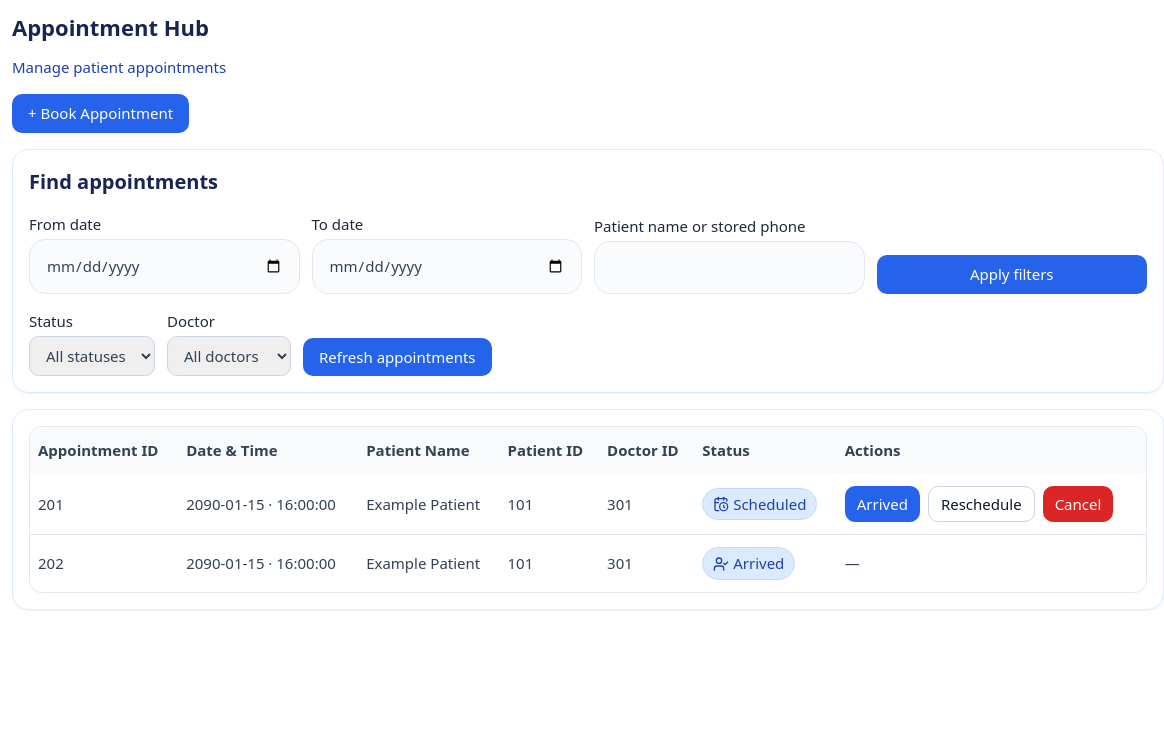
Test: ADM-05 appointment hub › filters locally by status/doctor and validates server date-range filters
The image size is (1164, 732).
Expected: the button with aria-label "Cancel appointment 201" is shown, [1043,486,1113,522]
Select "Arrived" in the dropdown labelled "Status" at coordinates (92, 356), box [29,336,155,376]
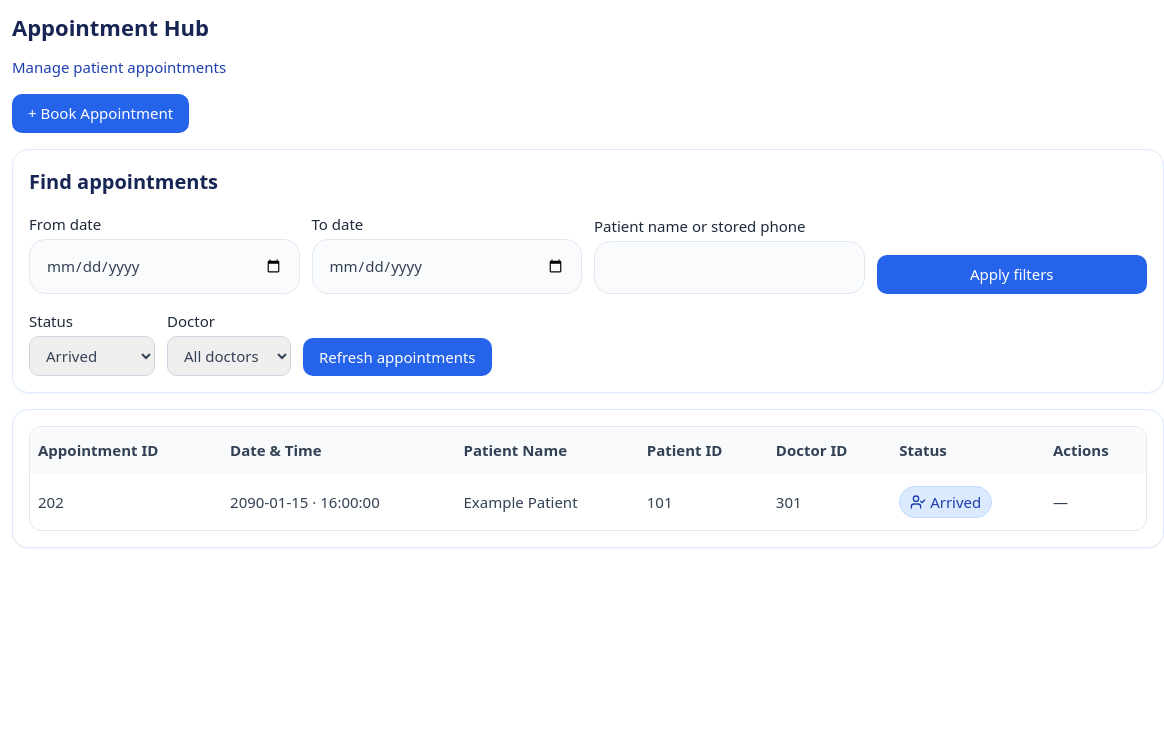
Select "Doctor 301" in the dropdown labelled "Doctor" at coordinates (229, 356), box [167,336,291,376]
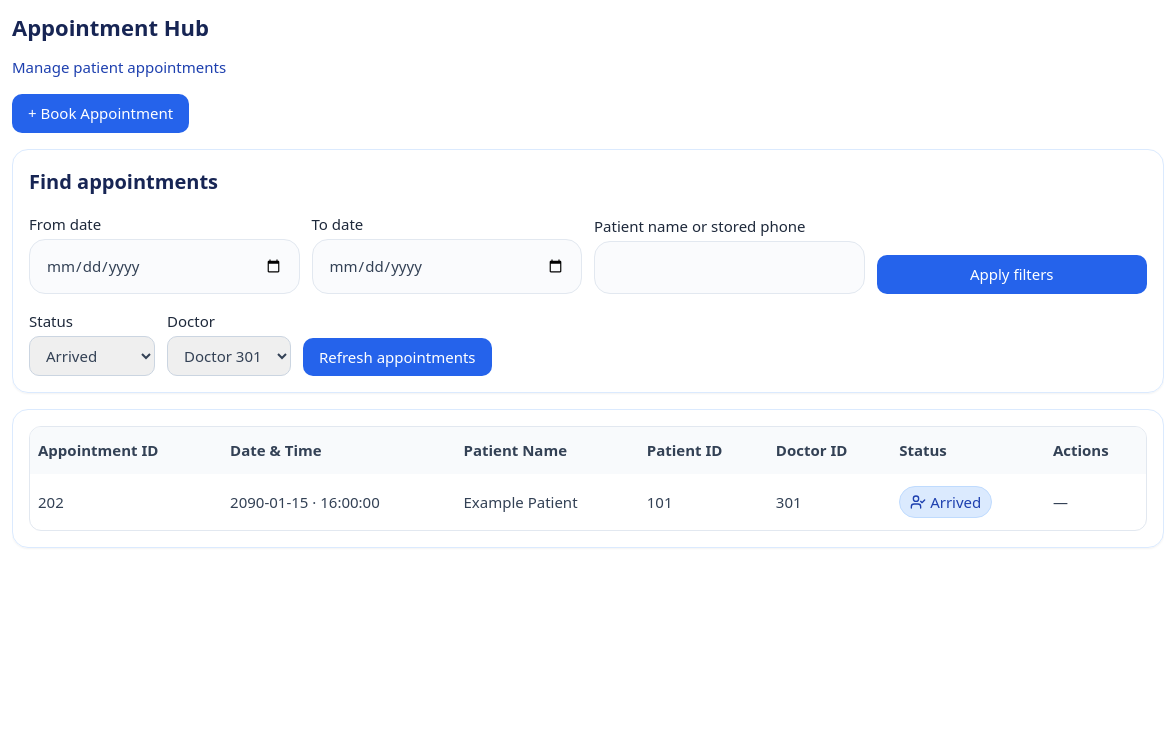
Type "2090-02-01" into the date field labelled "From date" at coordinates (164, 267), box [29,239,300,294]
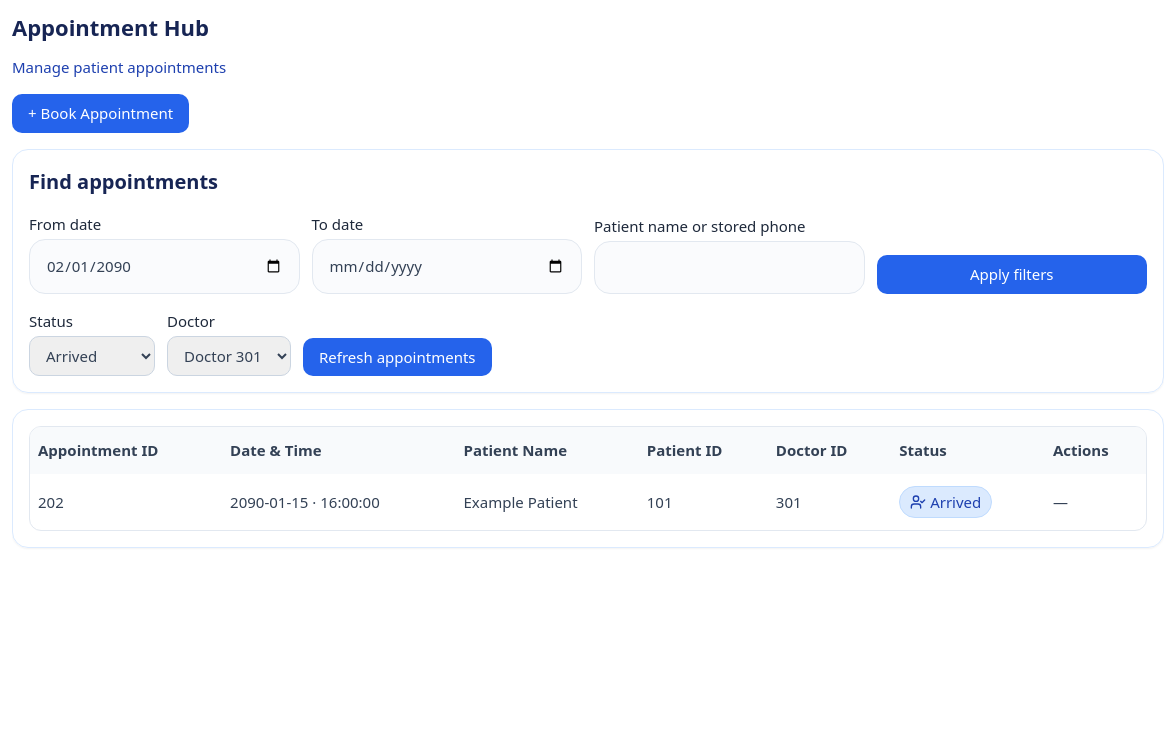
Type "2090-01-01" into the date field labelled "To date" at coordinates (447, 267), box [312,239,582,294]
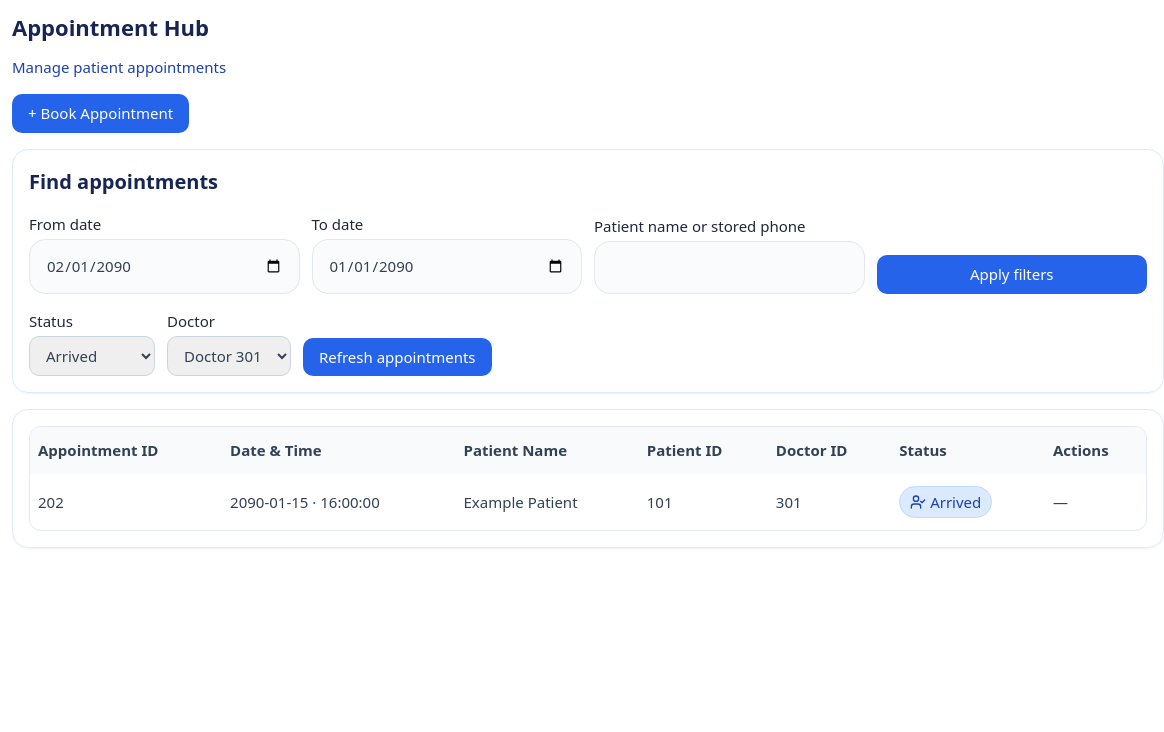
Click the button "Apply filters" at coordinates (1012, 275), box [876,255,1147,294]
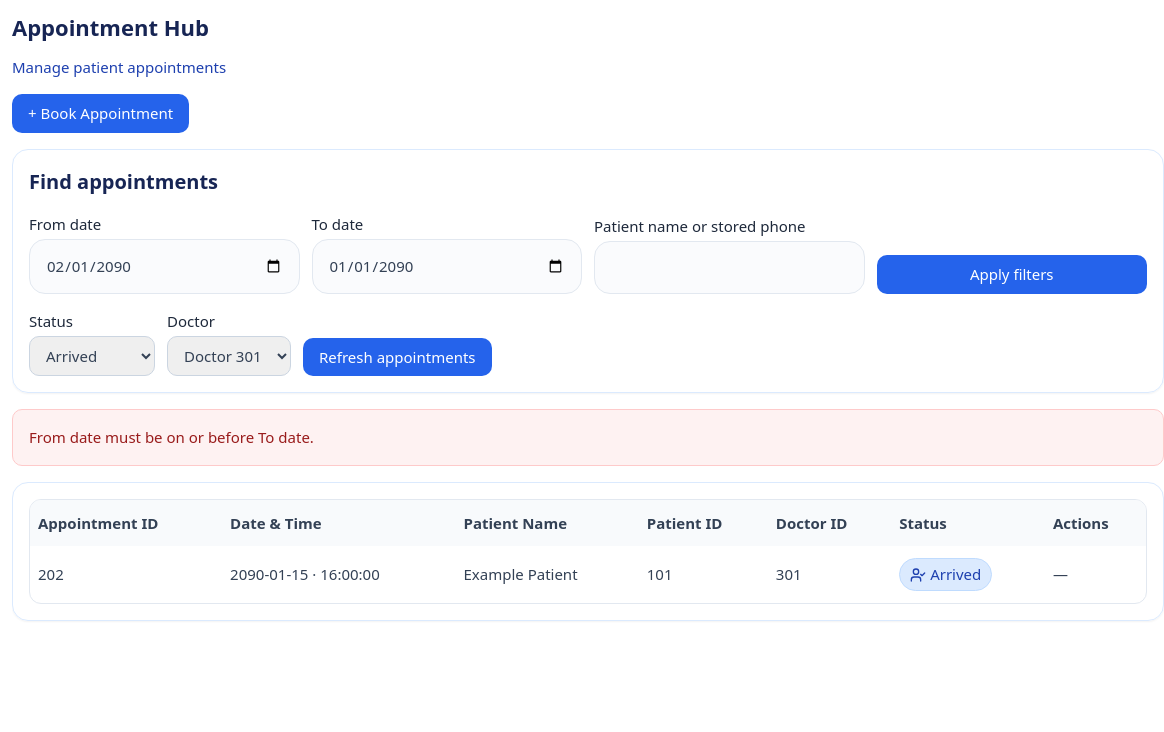
Result: the message shows "before" at [29,427,314,447]
